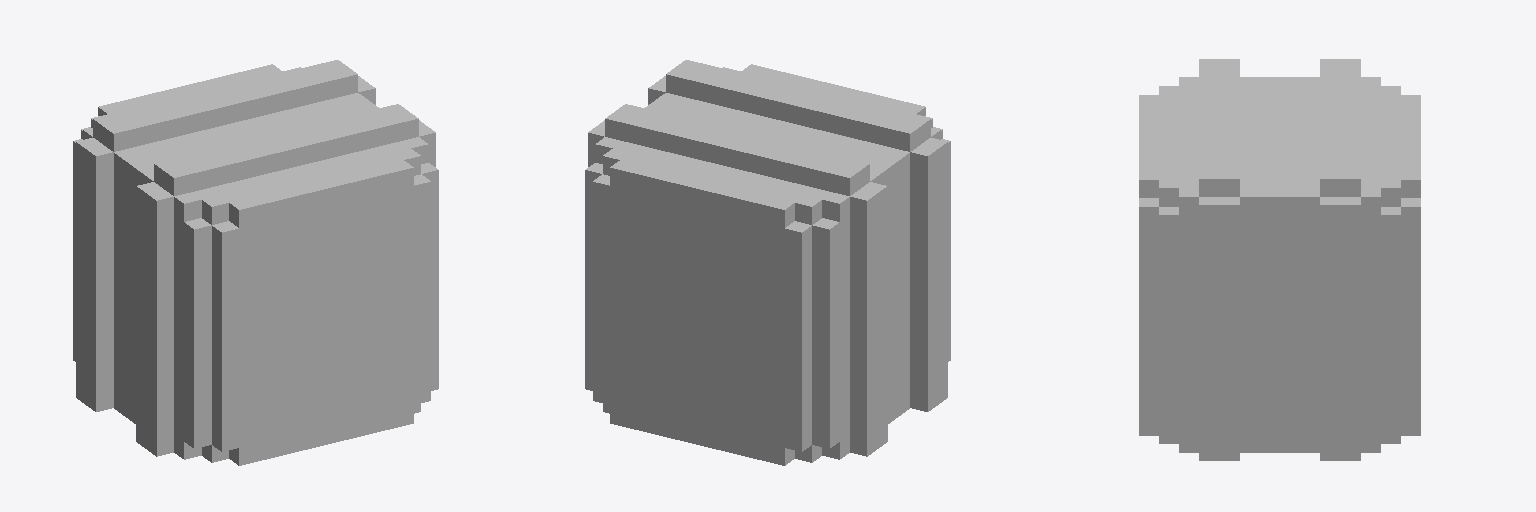
The model's file is Feno 01.obj.
3 renders of one model, left to right at view 1: azimuth 30°, elevation 25°; view 2: azimuth 150°, elevation 25°; view 3: azimuth 270°, elevation 25°, orthographic.
Parts seen in each view (by area): view 1: object 1; view 2: object 1; view 3: object 1.
Part boxes in pixels (left/top/right/bottom): object 1: left=73, top=60, right=438, bottom=465; object 1: left=585, top=60, right=950, bottom=465; object 1: left=1139, top=59, right=1420, bottom=460.
Size of the model in its own units: 1.6 by 1.5 by 1.4.